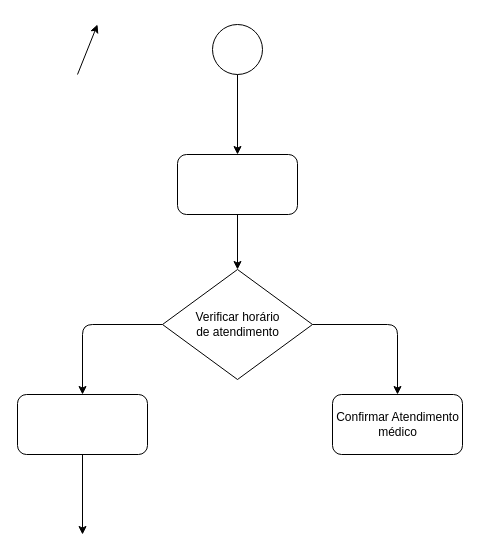
Image size: 490x560. Some labels were removed from this diagram. Each missing label, with the centre of its shape:
"agendar consulta" goes at [237,184].
"Negar Atendimento médico" goes at [82,424].
